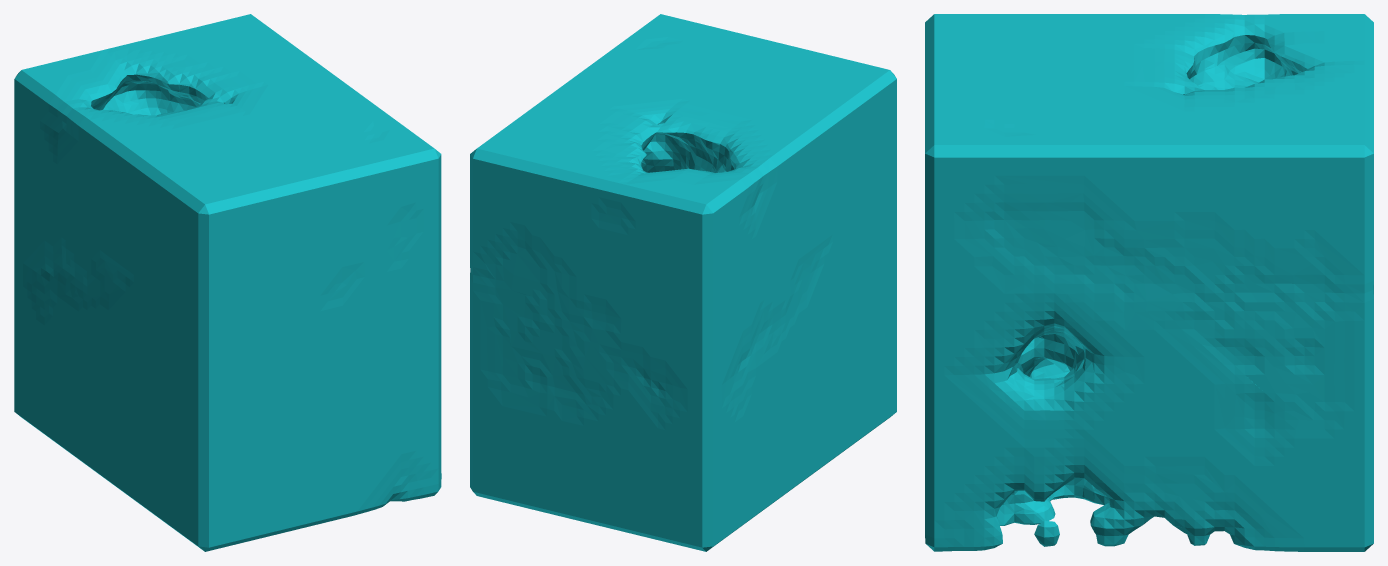
3 views of the same model, side by side, from view 1: azimuth 30°, elevation 25°; view 2: azimuth 150°, elevation 25°; view 3: azimuth 270°, elevation 25° (orthographic). The views are drawn at different scales.
Visible parts, largest first — view 1: Liquid_Domain; view 2: Liquid_Domain; view 3: Liquid_Domain.
Boxes of the visible parts, left/top/right/bottom form: Liquid_Domain: left=14, top=14, right=441, bottom=551; Liquid_Domain: left=470, top=14, right=896, bottom=551; Liquid_Domain: left=925, top=14, right=1373, bottom=551.
Size of the model in its own units: 79.09 by 108 by 108.
